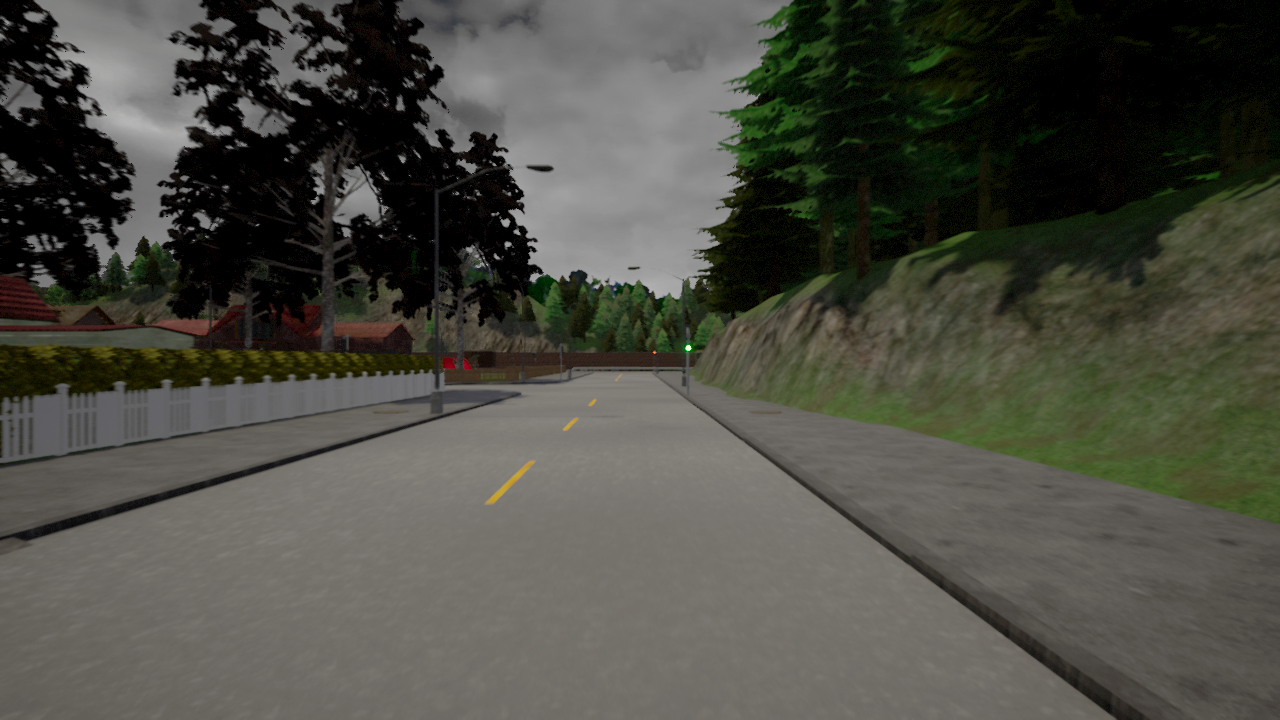green: (685, 333, 694, 353)
